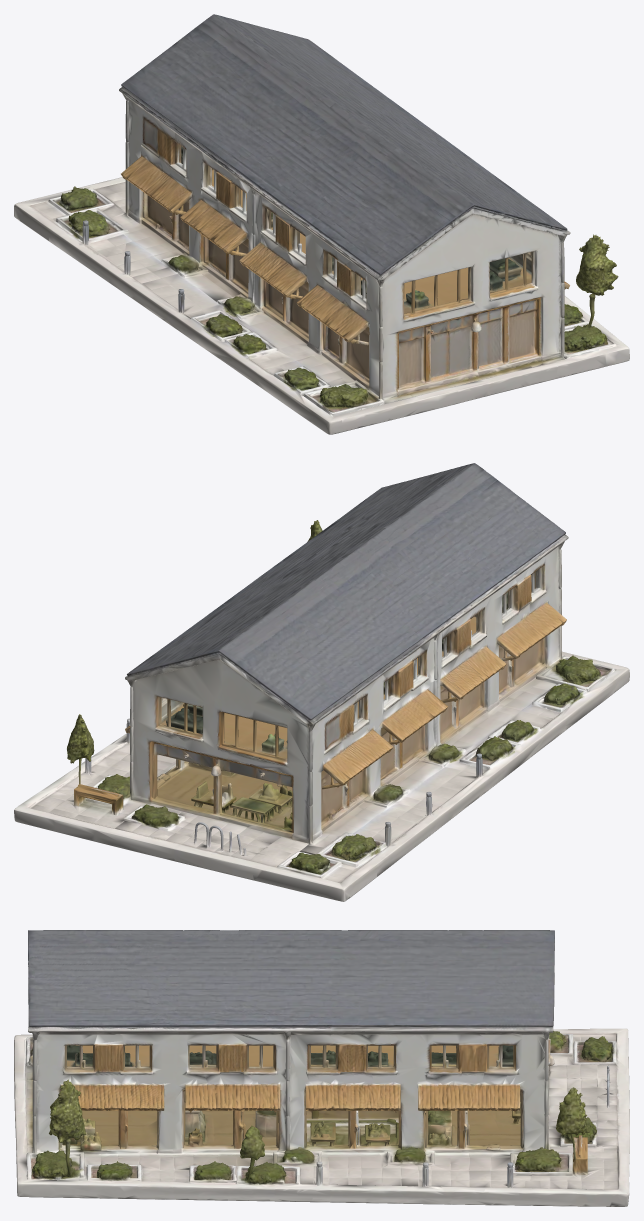
File: b5-shops.glb
The picture shows the model from 3 angles, top to bottom: view 1: azimuth 30°, elevation 25°; view 2: azimuth 150°, elevation 25°; view 3: azimuth 270°, elevation 25°; orthographic projection. The views are drawn at different scales.
Visible parts, largest first — view 1: tripo_node_d999ef9b-d19c-419f-9ddb-99162201f936; view 2: tripo_node_d999ef9b-d19c-419f-9ddb-99162201f936; view 3: tripo_node_d999ef9b-d19c-419f-9ddb-99162201f936.
Boxes of the visible parts, box(x1,y1,x2,y2) form: tripo_node_d999ef9b-d19c-419f-9ddb-99162201f936: box(14, 14, 629, 434); tripo_node_d999ef9b-d19c-419f-9ddb-99162201f936: box(14, 463, 629, 901); tripo_node_d999ef9b-d19c-419f-9ddb-99162201f936: box(14, 930, 629, 1206).
Bounding box in the file's own units: 0.6246 × 0.3373 × 0.98.
1 material, 1 textured.
